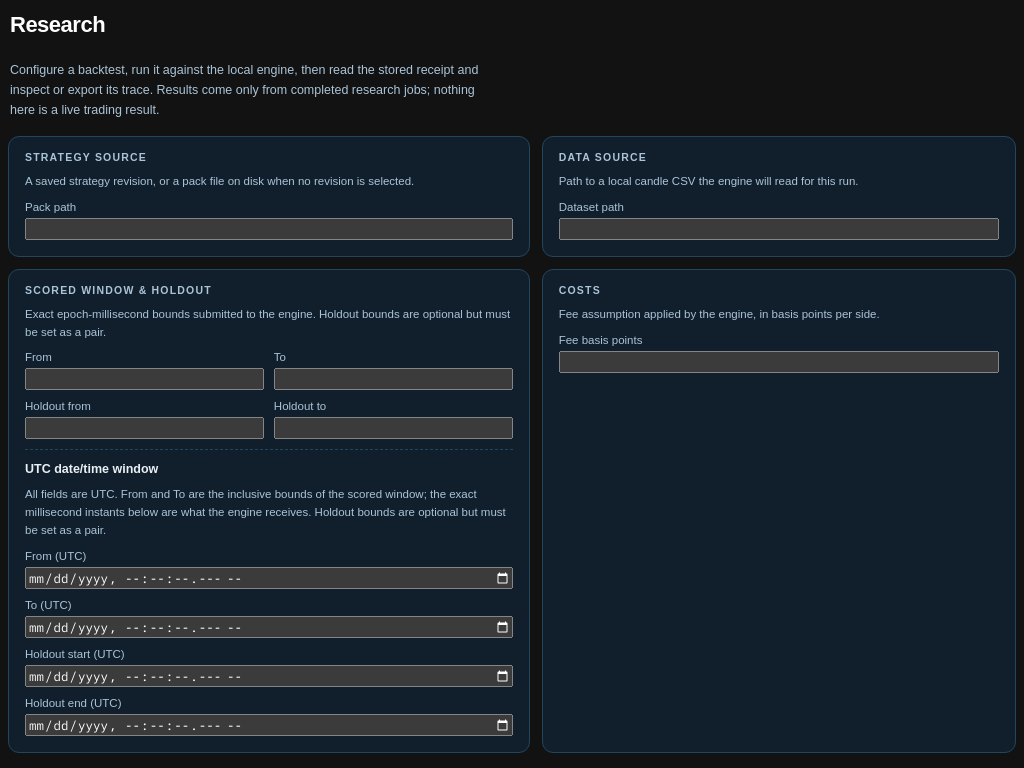
Test: ResearchDateWindow › typing a UTC date/time writes the exact derived milliseconds into the existing From field
Type "2026-01-01T00:00" into the field labelled "From (UTC)" at (269, 578), box left=25, top=567, right=513, bottom=589
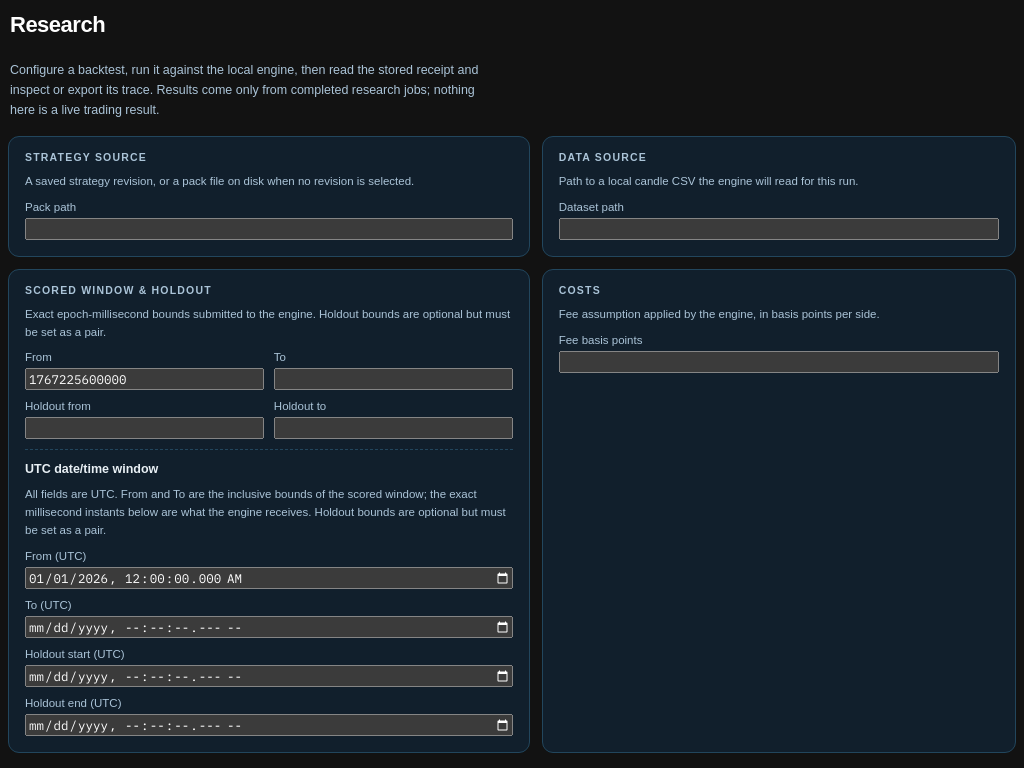
Result: the field labelled "From" holds "1767225600000" at left=25, top=368, right=264, bottom=390
Type "2026-01-01T23:59:59.999" into the field labelled "To (UTC)" at (269, 627), box left=25, top=616, right=513, bottom=638
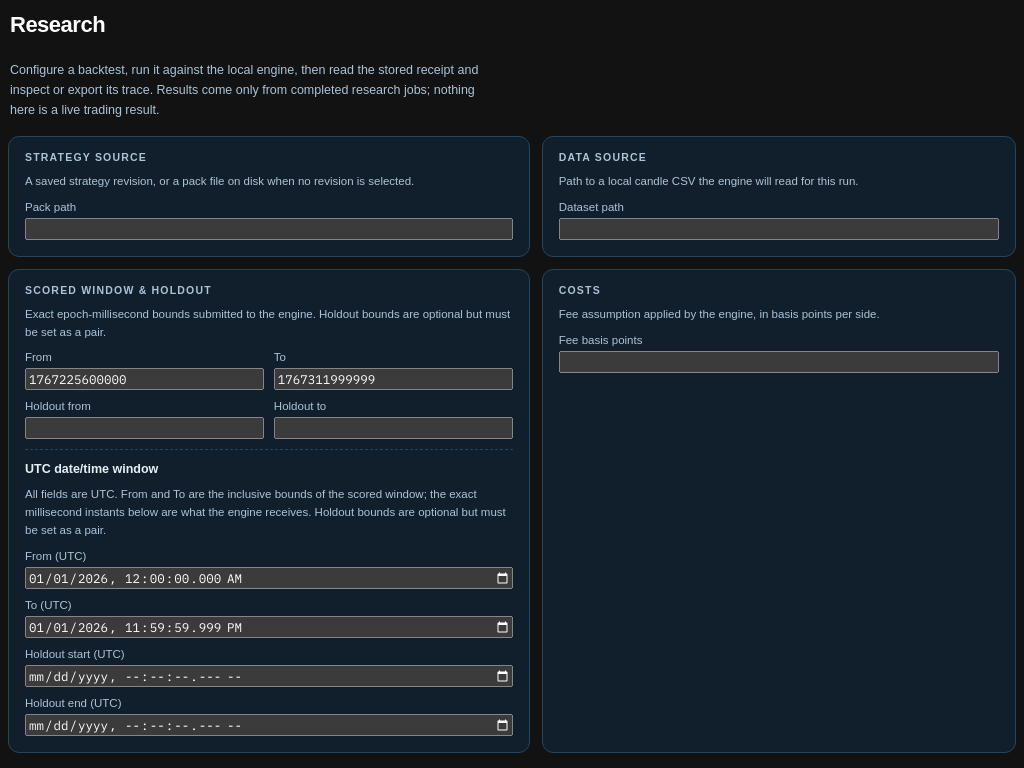
Result: the field labelled "To" holds "1767311999999" at left=274, top=368, right=513, bottom=390
